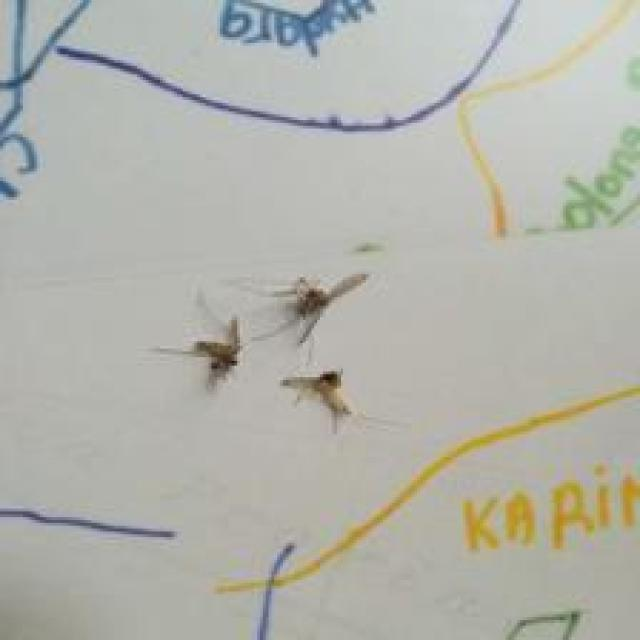Culex: (236, 270, 370, 350)
